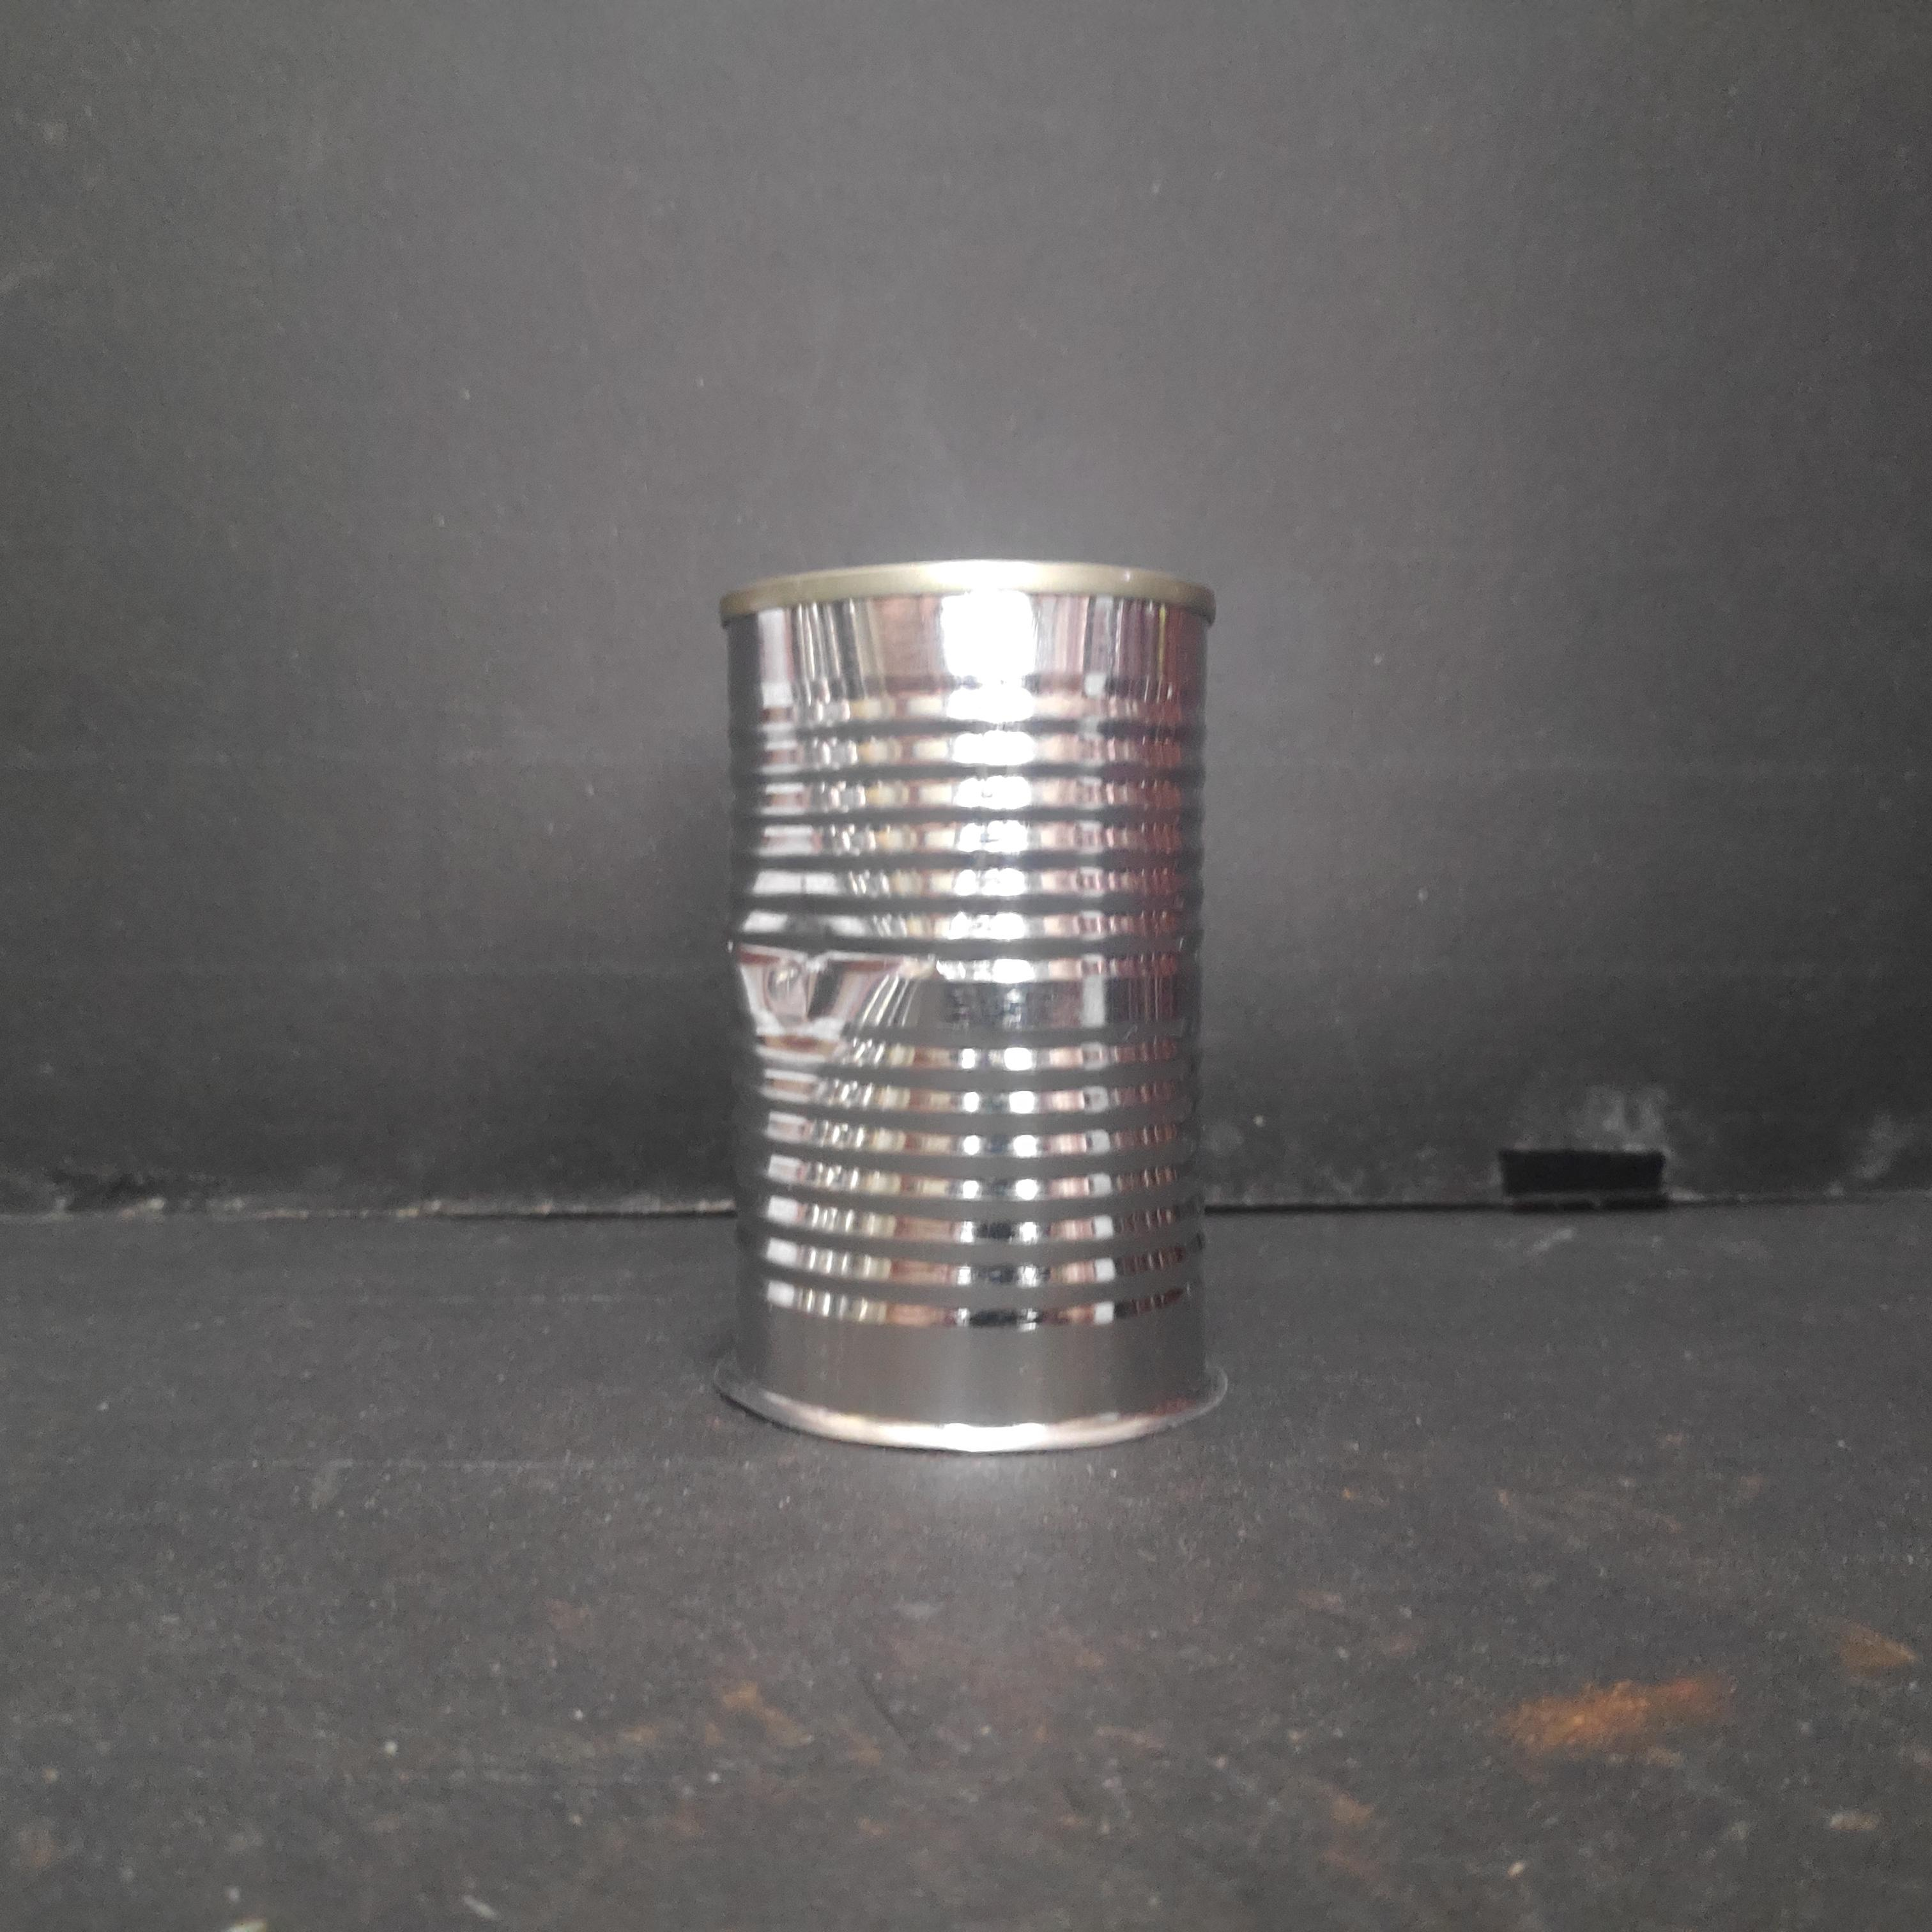Minor Defect: (704, 554, 1238, 1461)
